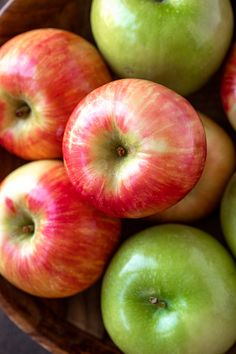Apple: (65, 76, 197, 218), (1, 161, 117, 290), (2, 23, 112, 159)
